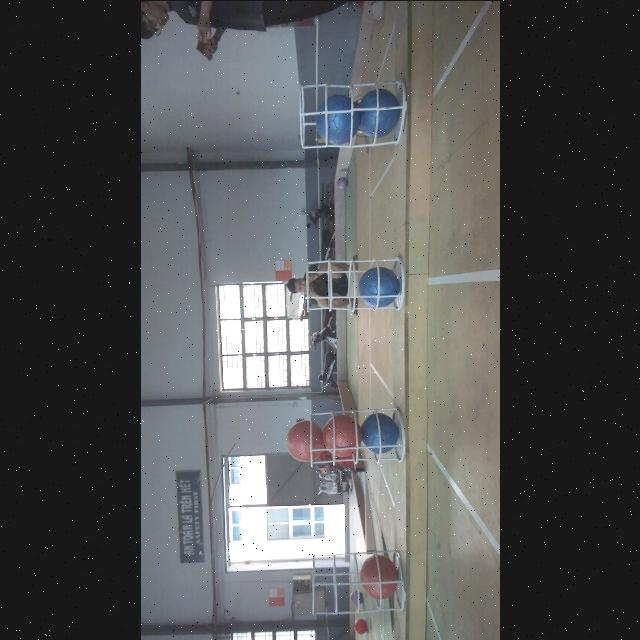B: (315, 94, 359, 144), (358, 88, 399, 136), (359, 266, 399, 306), (361, 412, 399, 452)
R: (359, 554, 398, 598), (322, 415, 362, 455), (286, 420, 322, 460)
